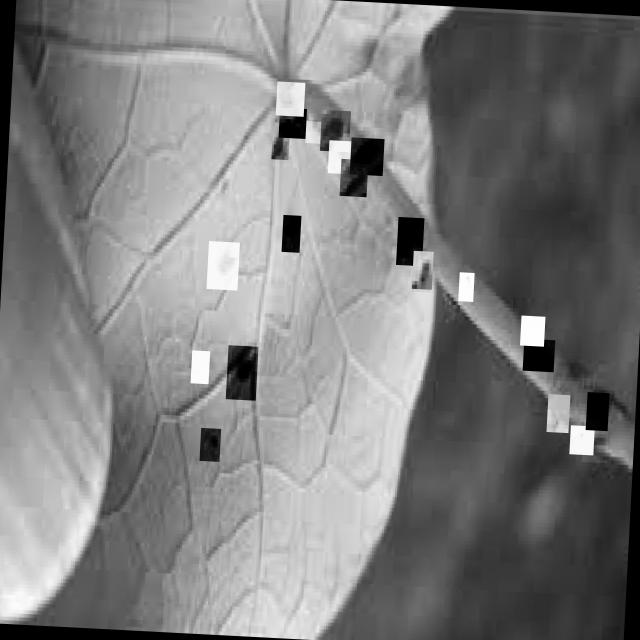aphid: (226, 346, 258, 400), (207, 240, 240, 290), (396, 217, 424, 266), (350, 137, 384, 176), (320, 110, 351, 152), (522, 338, 556, 372), (339, 159, 368, 197), (276, 82, 306, 116), (546, 394, 570, 433), (586, 392, 610, 431), (278, 108, 308, 139), (582, 430, 609, 463), (412, 251, 434, 290), (328, 140, 352, 174), (520, 316, 546, 346), (282, 215, 302, 253), (200, 428, 222, 462), (570, 426, 594, 456), (272, 122, 290, 160), (190, 350, 210, 384), (458, 272, 474, 302), (306, 120, 324, 144)
